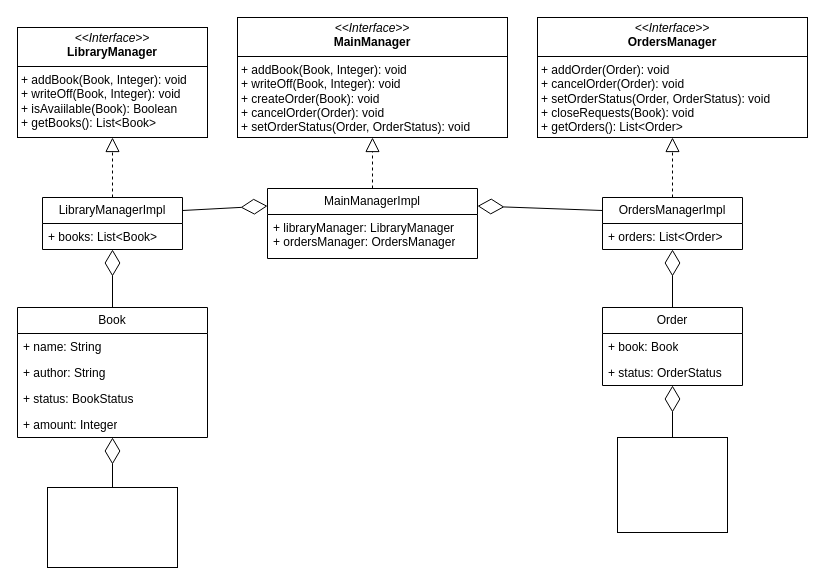
This 825x585 diagram has some shape labels left out. Here are the shapes that lost their labels. From the top down, the centre of each, then its label:
At (x=672, y=484): "<<Enumeration>> OrderStatus New Completed NotCompleted".
At (x=112, y=527): "<<Enumeration>> BookStatus Available NotAvailable".
